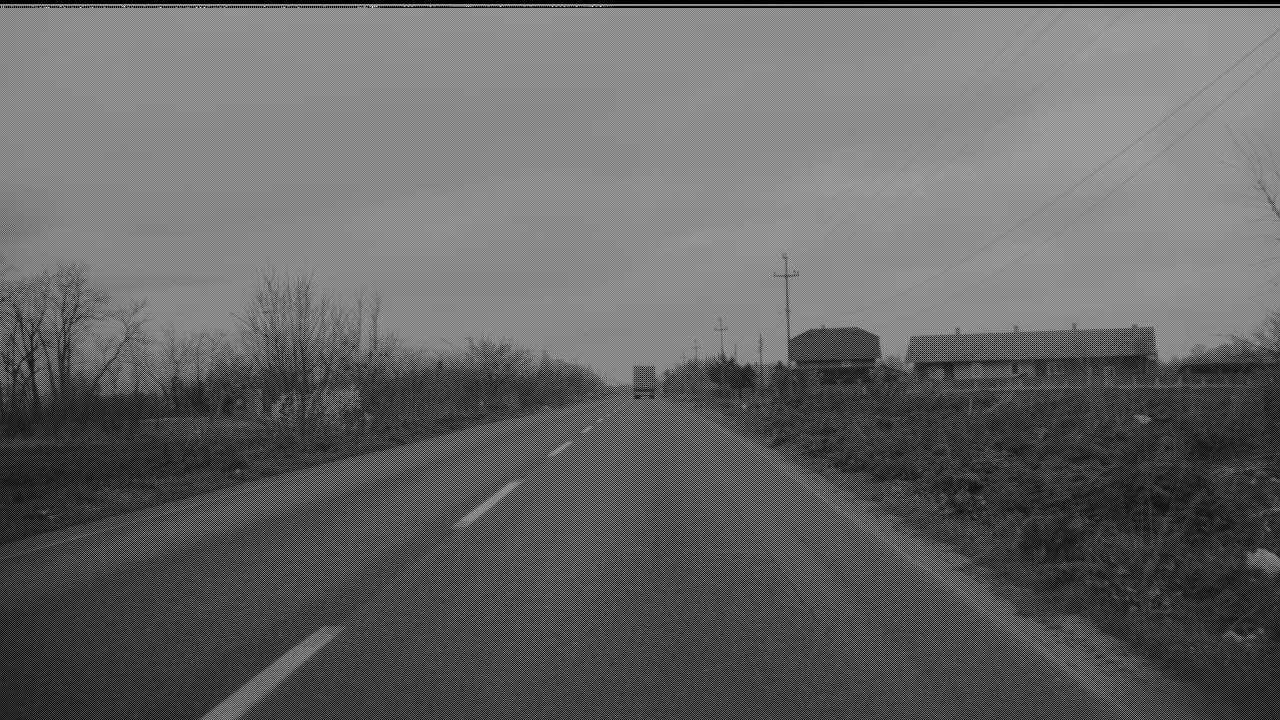pole: (782, 248, 792, 383)
